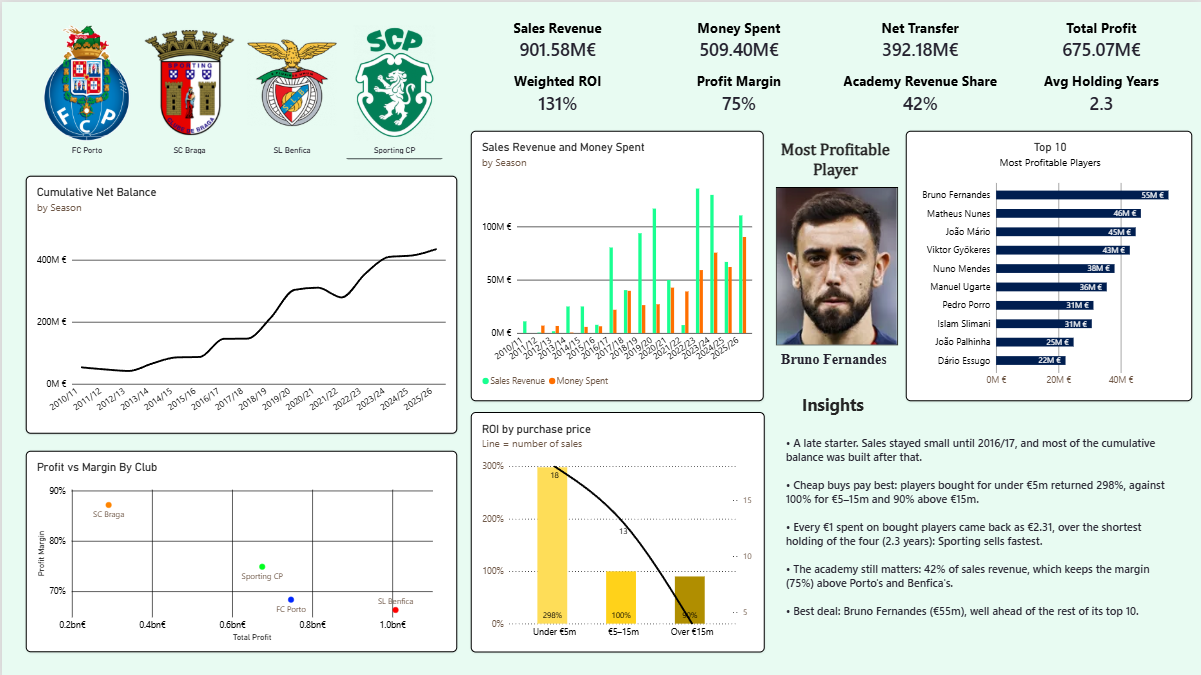

The page's visual inventory and layout, read from the dashboard file:
{"tool":"powerbi","page":{"name":"Clubs","canvas":[1920,1080],"ordinal":1},"visuals":[{"type":"advancedSlicerVisual","title":"Club","fields":{"Values":["clubs.name"]},"box":[37.5,35,690.7,216.3],"z":0},{"type":"clusteredColumnChart","fields":{"Category":["Dates.Season"],"Y":["_Measures.Sales Revenue","_Measures.Money Spent"]},"box":[750,205,468.5,433.2],"z":1000},{"type":"lineChart","fields":{"Category":["Dates.Season"],"Y":["_Measures.Cumulative Net Balance"]},"box":[37.5,277.5,690,412.5],"z":2000},{"type":"cardVisual","fields":{"Data":["_Measures.Sales Revenue","_Measures.Money Spent","_Measures.Net Transfer Balance","_Measures.Total Profit","_Measures.Weighted ROI","_Measures.Profit Margin","_Measures.Academy Revenue Share","_Measures.Avg Holding Years"]},"box":[748.6,22.9,1154.3,165.7],"z":3000},{"type":"scatterChart","title":"Profit vs Margin By Club","fields":{"Category":["clubs.name"],"Series":["clubs.name"],"X":["_Measures.Total Profit"],"Y":["_Measures.Profit Margin"]},"box":[37.5,717.5,690,322.5],"z":4000},{"type":"lineClusteredColumnComboChart","title":"ROI by purchase price","fields":{"Category":["transfers.buy_bracket"],"Y":["_Measures.Weighted ROI"],"Y2":["_Measures.Sales Count"]},"box":[750,655,470,385],"z":5000},{"type":"clusteredBarChart","title":"Top 10","fields":{"Category":["players.player_label"],"Y":["_Measures.Total Profit"]},"box":[1445,205,458.8,432.5],"z":6000},{"type":"image","box":[1238.3,295.8,195.8,253.3],"z":7000},{"type":"textbox","box":[1232.7,222.7,202.7,64.5],"z":8000},{"type":"cardVisual","fields":{"Data":["_Measures.Top Player Name"]},"box":[1230.9,532.7,202.5,80],"z":9000},{"type":"cardVisual","fields":{"Data":["_Measures.Club Comment"]},"box":[1238.3,595,650,485],"z":10000},{"type":"textbox","box":[1280,626.7,568.3,75],"z":11000}]}

Visuals, with their boxes in screenshot pixels (x1, y1, x2, y2), scaled from the page's 1920x1080 canvas onto the 1201x675 screenshot:
"Club" advancedSlicerVisual: 23:22:456:157
clusteredColumnChart - Dates.Season x _Measures.Sales Revenue: 469:128:762:399
lineChart - Dates.Season x _Measures.Cumulative Net Balance: 23:173:455:431
cardVisual - _Measures.Sales Revenue x _Measures.Money Spent: 468:14:1190:118
"Profit vs Margin By Club" scatterChart: 23:448:455:650
"ROI by purchase price" lineClusteredColumnComboChart: 469:409:763:650
"Top 10" clusteredBarChart: 904:128:1191:398
image: 775:185:897:343
textbox: 771:139:898:180
cardVisual - _Measures.Top Player Name: 770:333:897:383
cardVisual - _Measures.Club Comment: 775:372:1181:674
textbox: 801:392:1156:439
